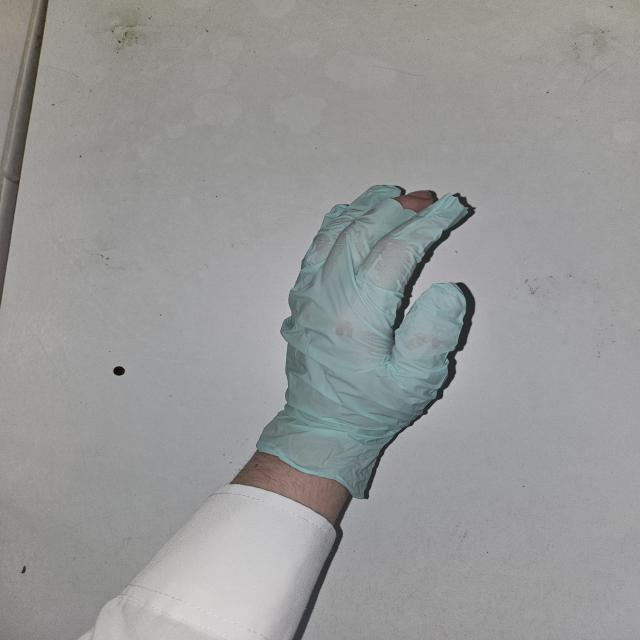gloves_damaged: (251, 184, 476, 498)
